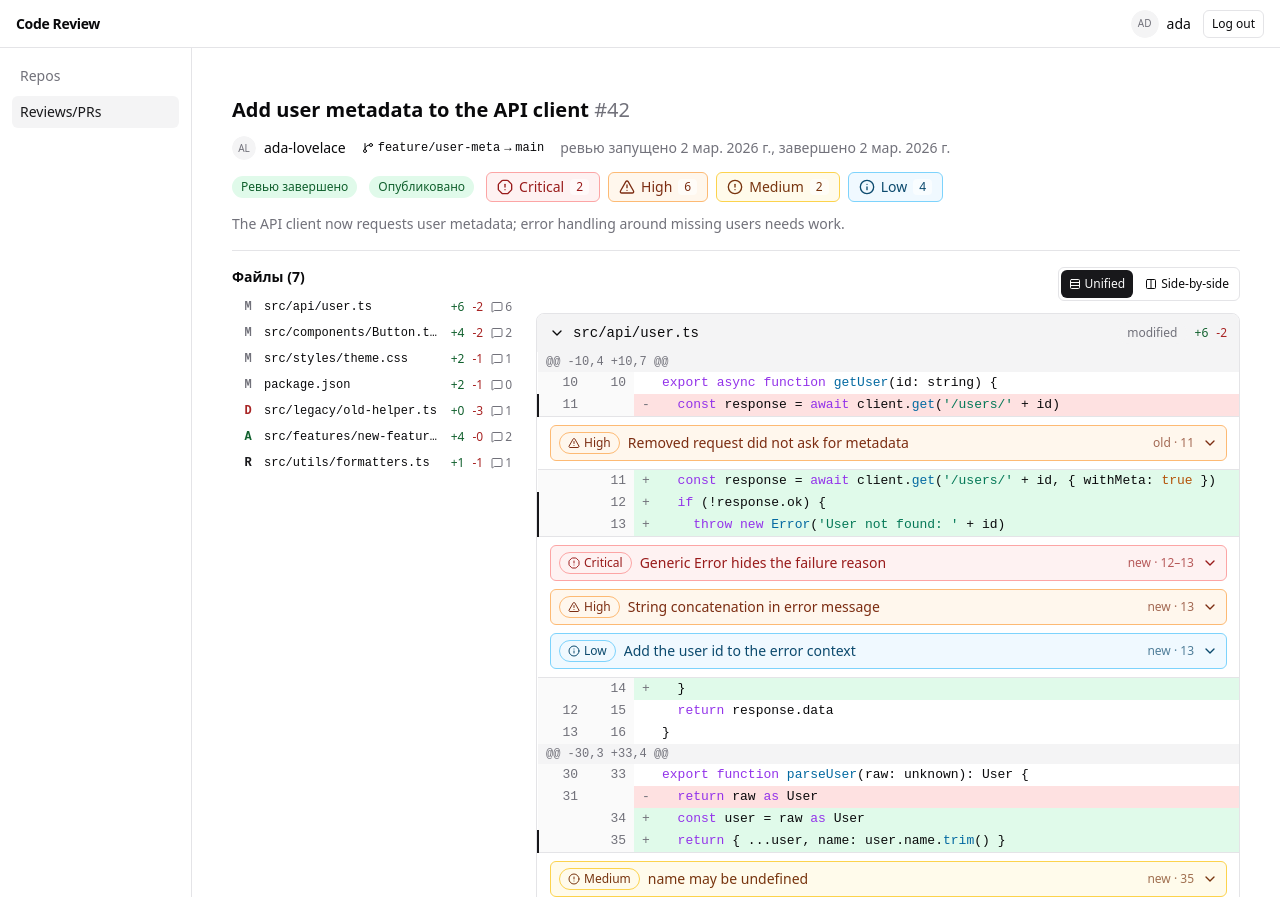
PullRequestPage with MockPullRequestDataSource (DoD) › unified: a critical card expands and shows its suggested fix as a diff
Check: the heading "Add user metadata to the API client #42" is shown, box [232,96,630,123]
Check: the element with test id "severity-badge" reads "Critical", box [584,554,623,571]
Click the button "Critical Generic Error hides the failure reason new · 12–13": (888, 563) [551,546,1226,580]
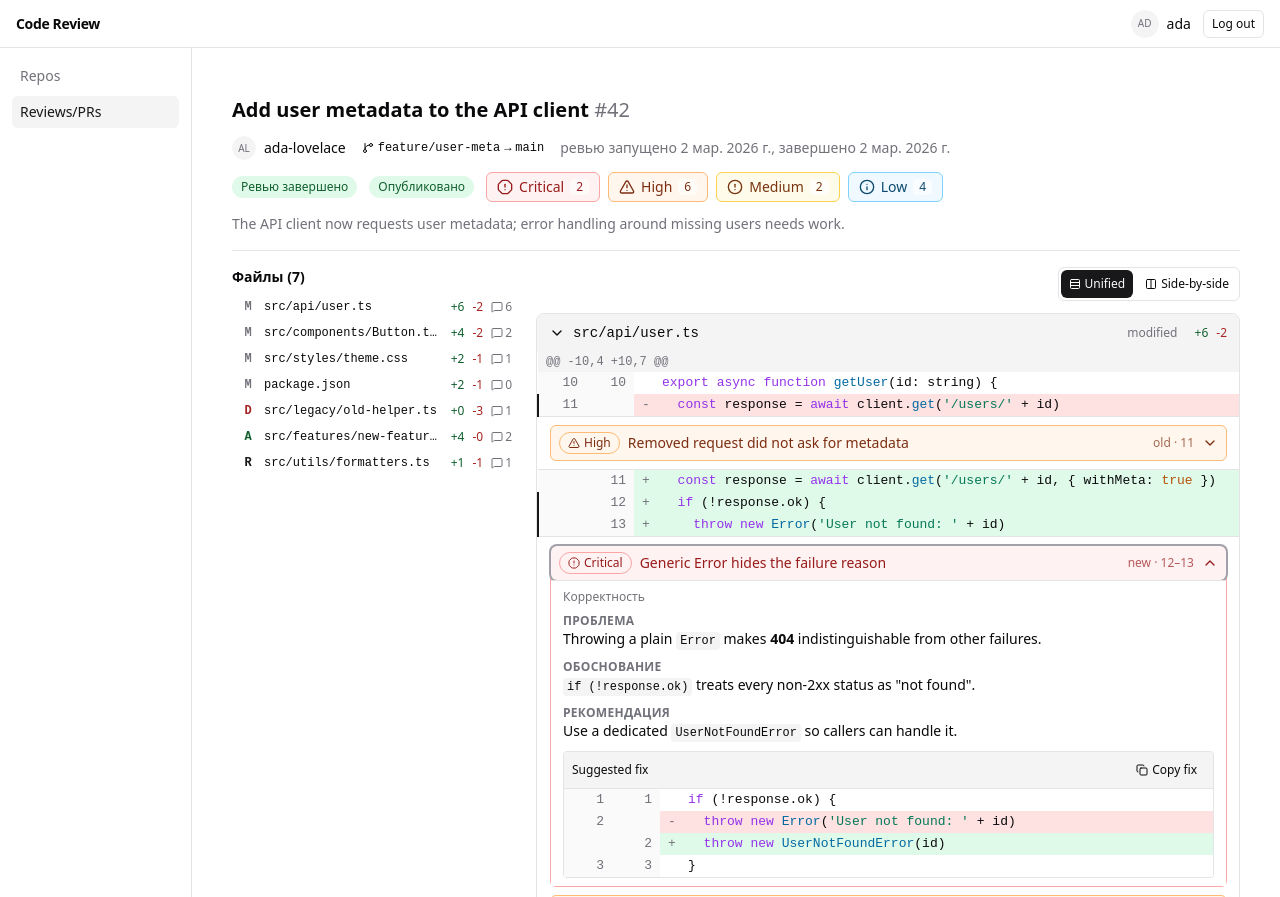
Check: the button "Critical Generic Error hides the failure reason new · 12–13" is expanded, box [551,546,1226,580]
